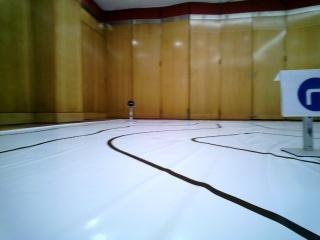right: (283, 71, 320, 115)
